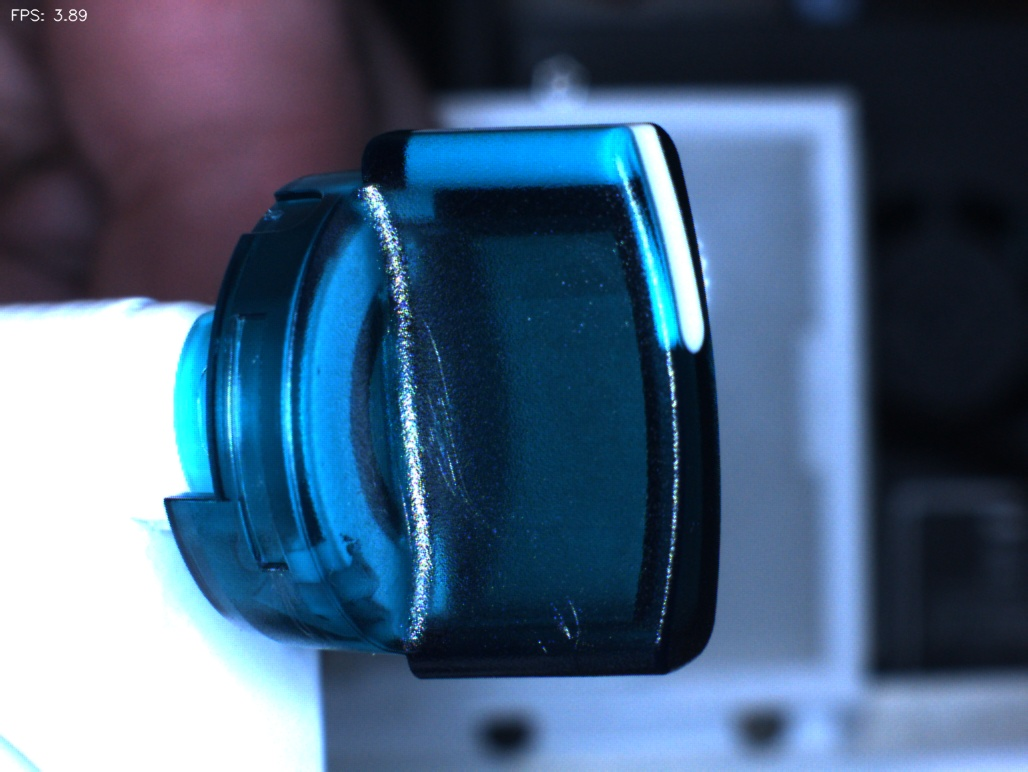Givrage: (389, 300, 480, 514)
